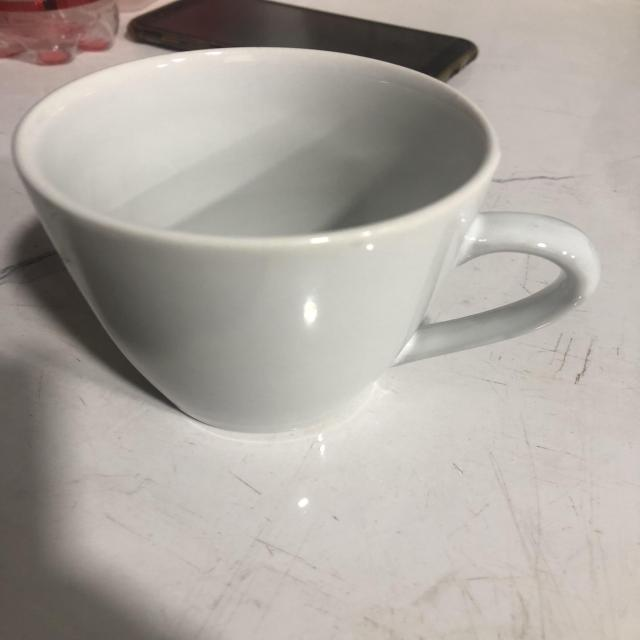cup-handle: (11, 45, 604, 435)
